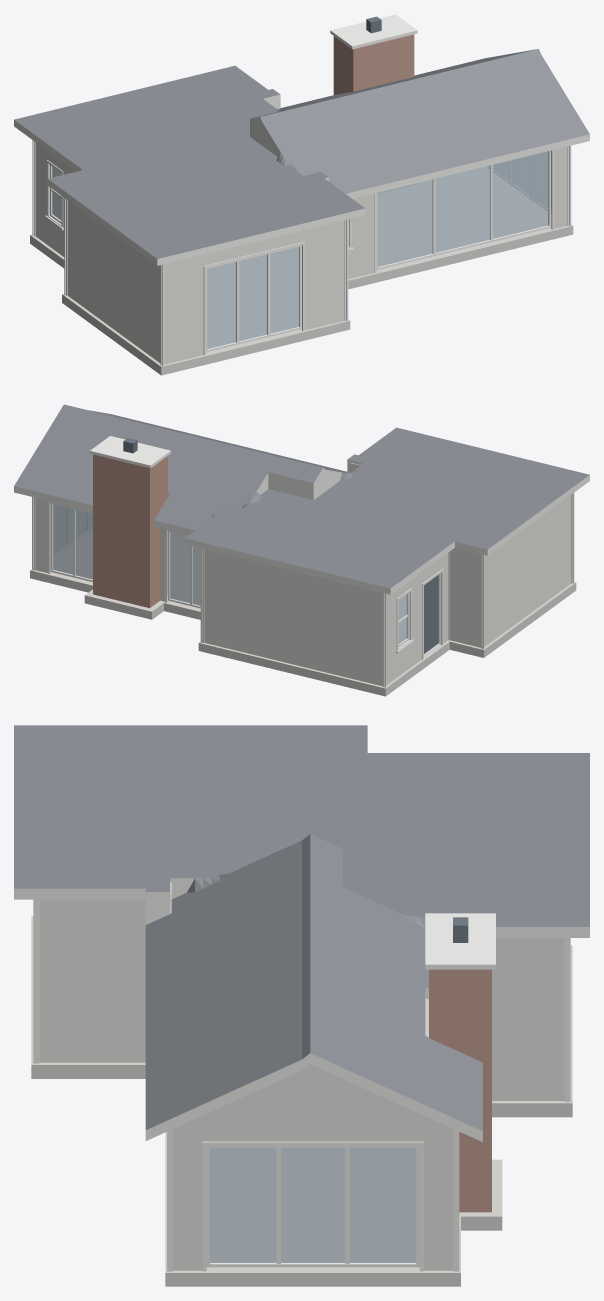
File: mocking-bird-lot-2-envelope.glb
3 views of the same model, one above another, from view 1: azimuth 30°, elevation 25°; view 2: azimuth 150°, elevation 25°; view 3: azimuth 270°, elevation 25° (orthographic). The views are drawn at different scales.
Parts seen in each view (by area): view 1: roof, siding, slab, glass, trim, fascia, chimney, window_frame; view 2: roof, siding, chimney, slab, trim, fascia, glass, window_frame, door; view 3: roof, siding, slab, glass, trim, chimney, fascia, window_frame.
Part boxes in pixels (bbox=[...]): roof: bbox=[14, 49, 589, 258]; siding: bbox=[35, 142, 567, 364]; slab: bbox=[30, 167, 573, 375]; glass: bbox=[52, 151, 551, 348]; trim: bbox=[32, 14, 571, 365]; fascia: bbox=[14, 94, 589, 265]; chimney: bbox=[333, 34, 414, 192]; window_frame: bbox=[50, 150, 551, 351]; roof: bbox=[14, 404, 589, 588]; siding: bbox=[35, 463, 571, 686]; chimney: bbox=[93, 454, 167, 608]; slab: bbox=[30, 529, 576, 696]; trim: bbox=[32, 436, 574, 687]; fascia: bbox=[14, 459, 589, 594]; glass: bbox=[53, 504, 406, 644]; window_frame: bbox=[50, 503, 409, 646]; door: bbox=[123, 438, 438, 653]; roof: bbox=[14, 725, 589, 1131]; siding: bbox=[40, 882, 564, 1270]; slab: bbox=[31, 916, 572, 1286]; glass: bbox=[210, 1147, 416, 1262]; trim: bbox=[33, 899, 570, 1271]; chimney: bbox=[429, 969, 491, 1212]; fascia: bbox=[14, 878, 589, 1141]; window_frame: bbox=[206, 1146, 419, 1267].
Size of the model in its own units: 16.05 by 5.64 by 10.5.
